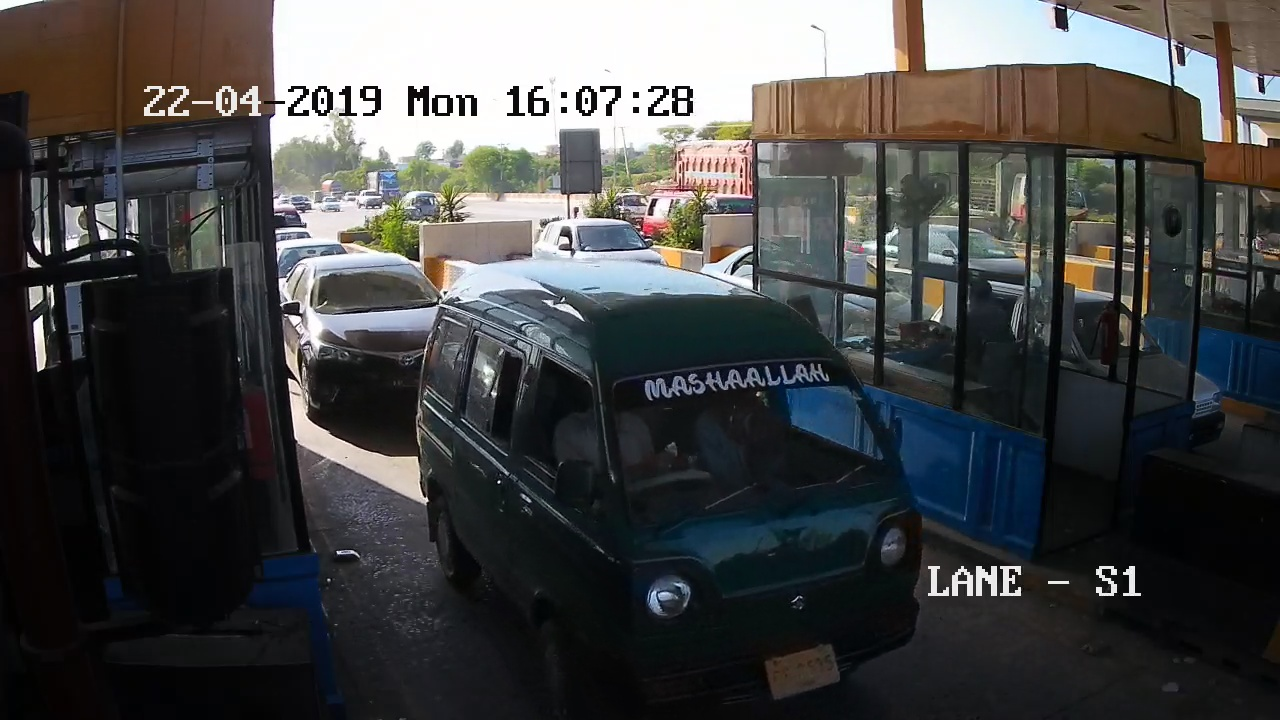Number Plate (Car): (761, 644, 842, 697)
